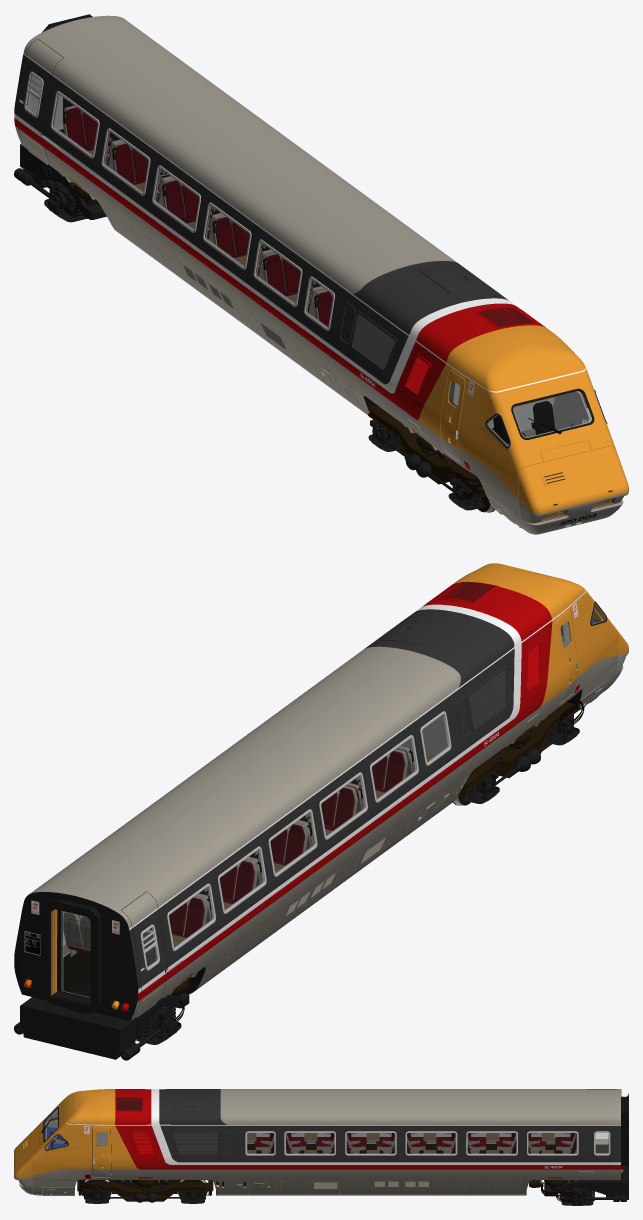
The model's file is train_-_british_rail_class_370_apt_dvt.glb.
The picture shows the model from 3 angles, top to bottom: view 1: azimuth 30°, elevation 25°; view 2: azimuth 150°, elevation 25°; view 3: azimuth 270°, elevation 25°; orthographic projection. The views are drawn at different scales.
Parts seen in each view (by area): view 1: Main Body_2, inside, Botton Panels_8, bogie_front, bogie_back, Seats_15, Side Vents_3; view 2: Main Body_2, inside, bogie_back, Botton Panels_8, bogie_front, Rear Door Surround_6, Seats_15, Rear Door_12, Side Vents_3, Interior Walls_11; view 3: Main Body_2, inside, Botton Panels_8, bogie_front, Seats_15, bogie_back, Side Vents_3, Tables_16, Interior Walls_11, Rear Door Surround_6, Mesh Grill Roof_25, Front Bottom Hatches_4 (+3 smaller).
Boxes of the visible parts, box(x1,y1,x2,y2) form: Main Body_2: box(14, 15, 628, 534); inside: box(14, 53, 591, 446); Botton Panels_8: box(104, 205, 368, 414); bogie_front: box(368, 405, 486, 510); bogie_back: box(14, 144, 106, 222); Seats_15: box(62, 106, 332, 319); Side Vents_3: box(353, 313, 428, 392); Main Body_2: box(14, 563, 628, 1020); inside: box(61, 590, 603, 997); bogie_back: box(14, 978, 189, 1060); Botton Panels_8: box(199, 776, 465, 987); bogie_front: box(461, 701, 580, 803); Rear Door Surround_6: box(42, 899, 101, 1013); Seats_15: box(63, 746, 415, 965); Rear Door_12: box(62, 911, 90, 997); Side Vents_3: box(469, 644, 539, 727); Interior Walls_11: box(63, 778, 386, 991); Main Body_2: box(14, 1089, 621, 1195); inside: box(44, 1089, 620, 1174); Botton Panels_8: box(220, 1180, 522, 1195); bogie_front: box(77, 1145, 213, 1203); Seats_15: box(255, 1133, 576, 1153); bogie_back: box(544, 1165, 628, 1205); Side Vents_3: box(132, 1133, 217, 1153); Tables_16: box(247, 1133, 554, 1153); Interior Walls_11: box(247, 1144, 608, 1153); Rear Door Surround_6: box(621, 1093, 628, 1167); Mesh Grill Roof_25: box(116, 1097, 142, 1110); Front Bottom Hatches_4: box(43, 1187, 74, 1195).
Bounding box in the file's own units: 3.13 × 3.85 × 21.88.
31 materials, 2 textured.
